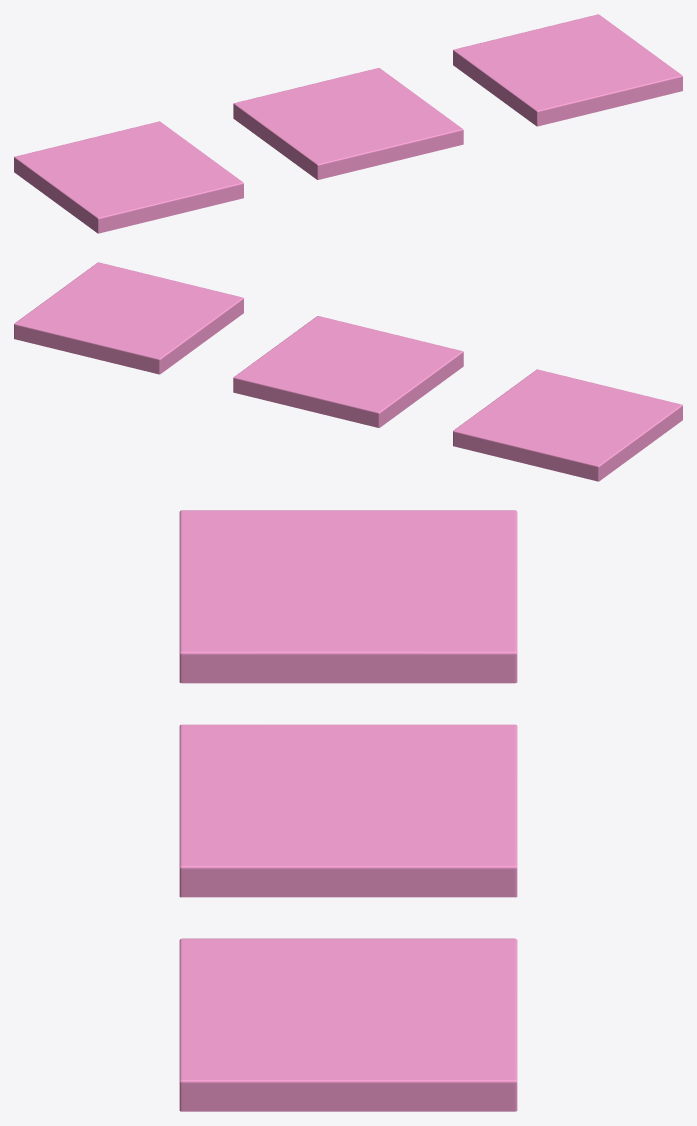
File: Moving_platforms.fbx
3 renders of one model, top to bottom at view 1: azimuth 30°, elevation 25°; view 2: azimuth 150°, elevation 25°; view 3: azimuth 270°, elevation 25°, orthographic. The views are drawn at different scales.
Parts seen in each view (by area): view 1: Moving_platform, Moving_platform.002, Moving_platform.001; view 2: Moving_platform, Moving_platform.002, Moving_platform.001; view 3: Moving_platform, Moving_platform.002, Moving_platform.001.
Boxes of the visible parts, x1,y1,x2,y2 form: Moving_platform: (233,68,463,179); Moving_platform.002: (14,121,243,233); Moving_platform.001: (453,14,682,126); Moving_platform: (233,316,463,427); Moving_platform.002: (453,369,682,481); Moving_platform.001: (14,262,243,374); Moving_platform: (179,724,517,897); Moving_platform.002: (179,510,517,683); Moving_platform.001: (179,938,517,1111).
Bounding box in the file's own units: 4 × 0.1 × 1.
